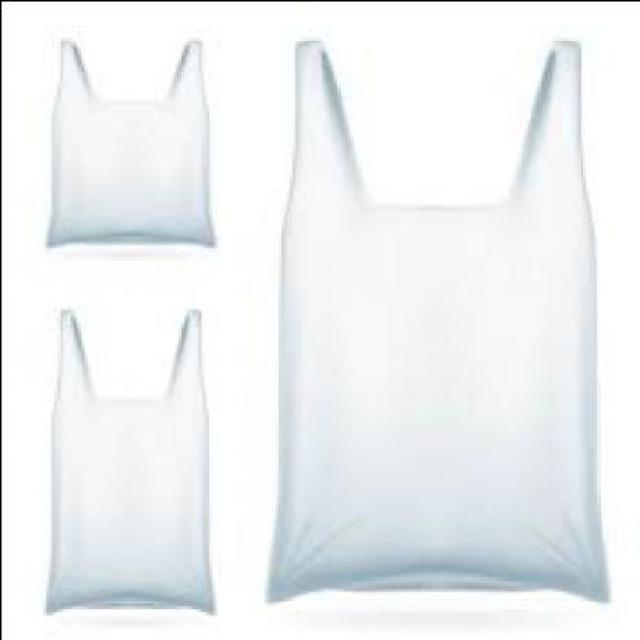PLASTIC: (272, 36, 610, 602), (44, 305, 216, 613), (47, 35, 219, 247)
